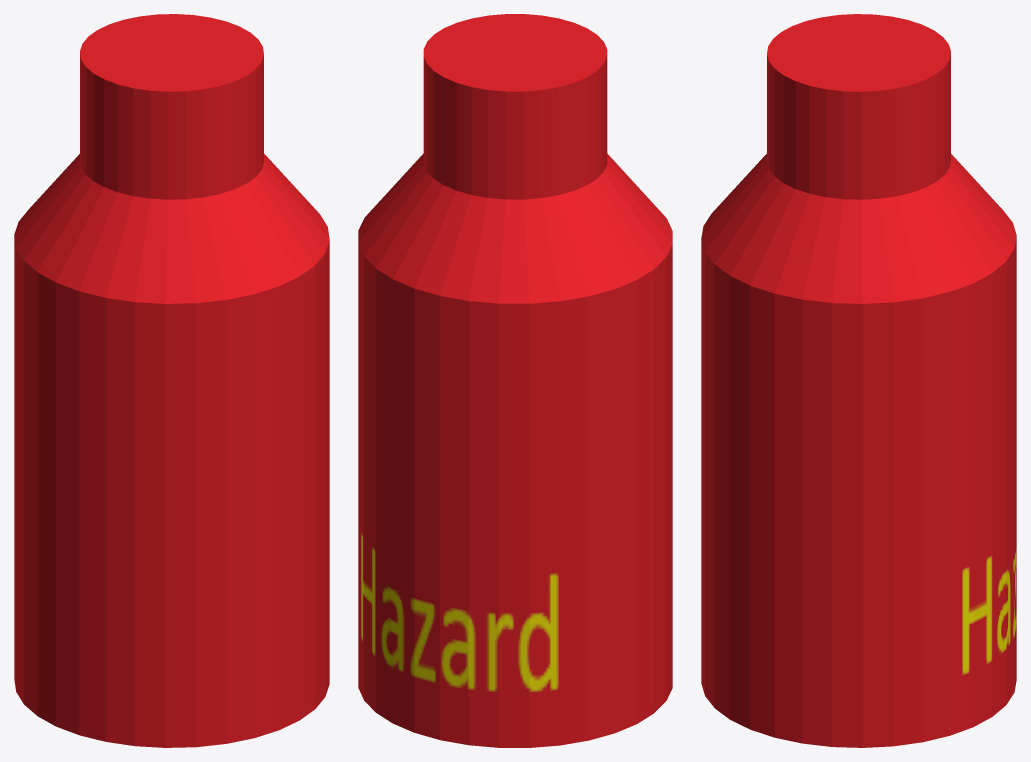
The model's file is hazardbarrel.fbx.
The picture shows the model from 3 angles, left to right: view 1: azimuth 30°, elevation 25°; view 2: azimuth 150°, elevation 25°; view 3: azimuth 270°, elevation 25°; orthographic projection.
Parts seen in each view (by area): view 1: Cylinder.004; view 2: Cylinder.004; view 3: Cylinder.004.
Part boxes in pixels (x1,y1,x2,y2): Cylinder.004: (14, 14, 329, 747); Cylinder.004: (358, 14, 672, 747); Cylinder.004: (701, 14, 1016, 747).
Size of the model in its own units: 492 by 1081 by 492.
